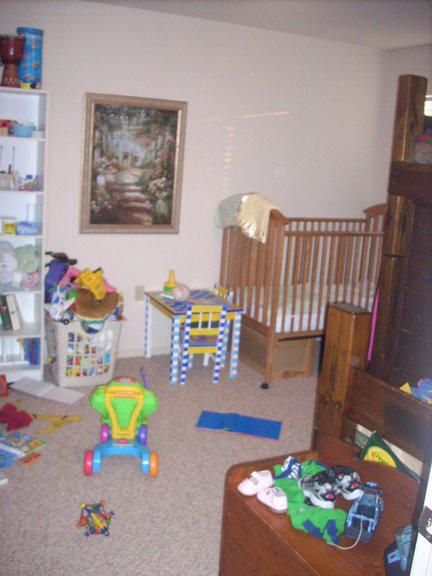Cama: (224, 181, 383, 361)
Otro Obstaculo: (49, 264, 119, 383), (86, 381, 167, 483), (72, 490, 118, 542)
